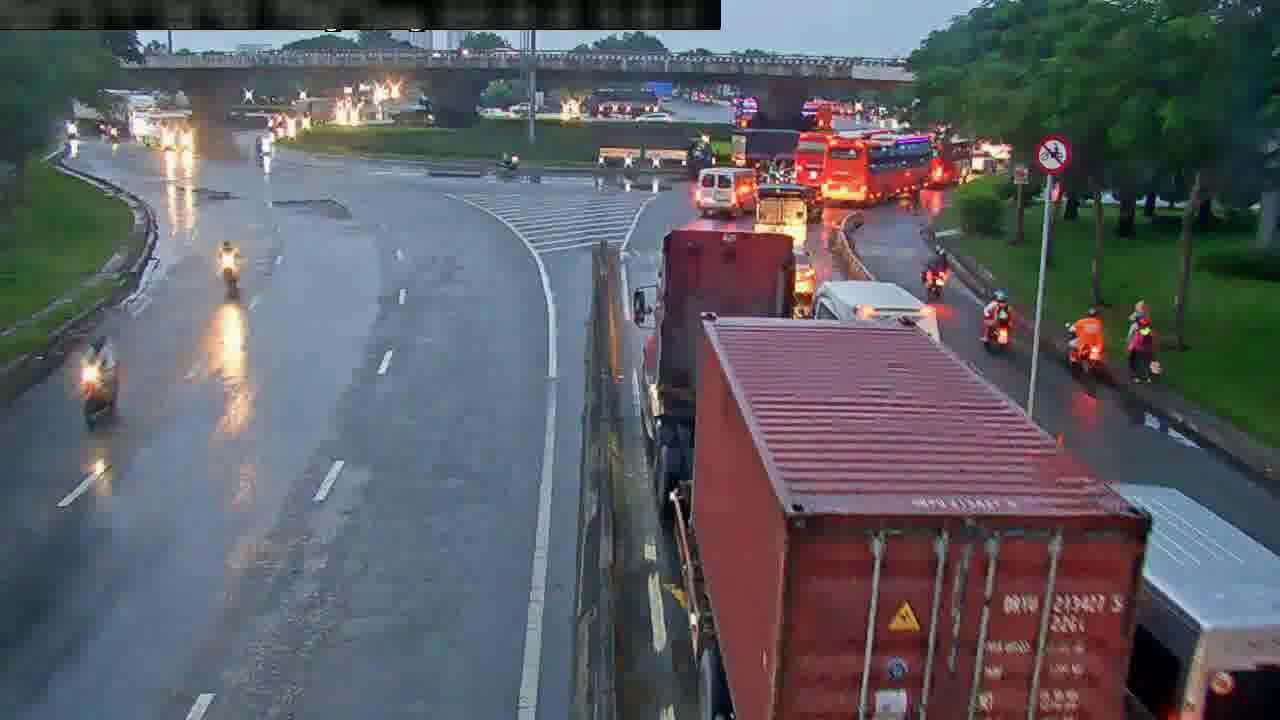14: (1110, 472, 1280, 716), (823, 133, 937, 211), (694, 164, 758, 214)
8: (646, 230, 1148, 720), (592, 126, 716, 177), (755, 177, 822, 241)
motorbike: (77, 331, 121, 426), (1065, 302, 1107, 376), (982, 288, 1012, 359), (917, 237, 949, 299), (219, 235, 248, 298)
